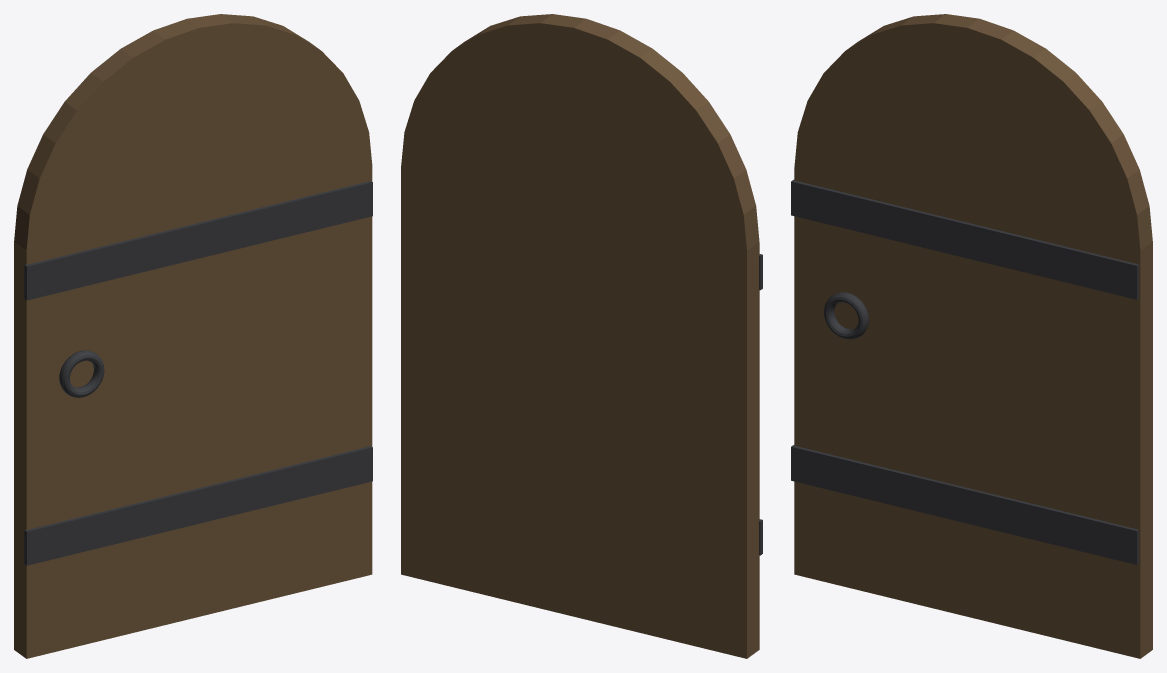
The model's file is wooden-door-banded.glb.
3 renders of one model, left to right at view 1: azimuth 30°, elevation 25°; view 2: azimuth 150°, elevation 25°; view 3: azimuth 330°, elevation 25°, orthographic.
Parts seen in each view (by area): view 1: door-lower, door-upper, iron-band-1, iron-band-2, iron-ring; view 2: door-lower, door-upper; view 3: door-lower, door-upper, iron-band-1, iron-band-2, iron-ring.
Part boxes in pixels (x1=…): door-lower: x1=14, y1=167, x2=372, y2=658; door-upper: x1=14, y1=14, x2=372, y2=394; iron-band-1: x1=24, y1=181, x2=372, y2=300; iron-band-2: x1=24, y1=446, x2=372, y2=565; iron-ring: x1=59, y1=350, x2=104, y2=397; door-lower: x1=401, y1=167, x2=759, y2=658; door-upper: x1=401, y1=14, x2=759, y2=393; door-lower: x1=794, y1=167, x2=1152, y2=658; door-upper: x1=794, y1=14, x2=1152, y2=392; iron-band-1: x1=791, y1=179, x2=1138, y2=299; iron-band-2: x1=791, y1=445, x2=1138, y2=564; iron-ring: x1=824, y1=292, x2=868, y2=339.
Size of the model in its own units: 1.16 by 1.89 by 0.1005.
